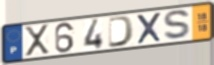4: (82, 18, 105, 51)
6: (54, 21, 76, 54)
D: (107, 15, 136, 49)
S: (162, 9, 193, 42)
X: (135, 11, 164, 46), (23, 23, 51, 59)
